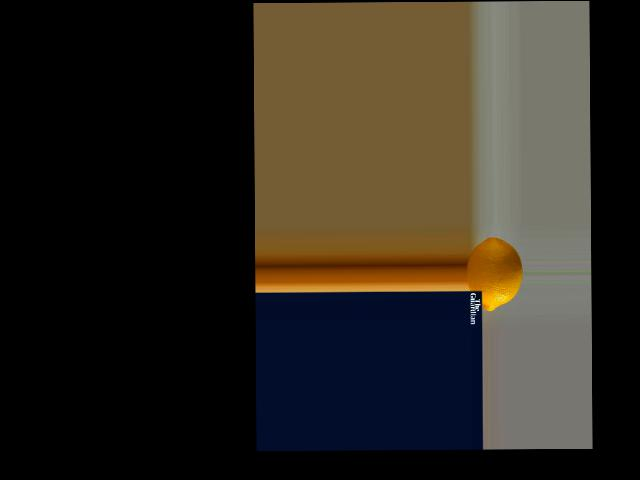lemon: (466, 233, 522, 315)
